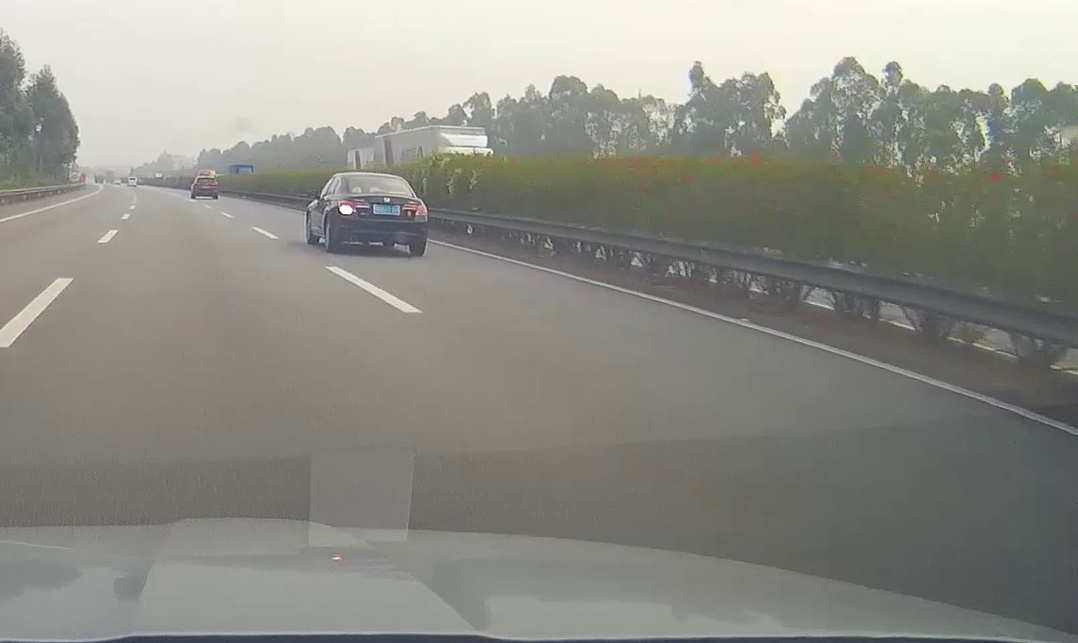L_light: (338, 200, 370, 215)
R_light: (402, 203, 428, 216)
T_light: (371, 177, 382, 179)
day-left: (333, 173, 429, 256)
